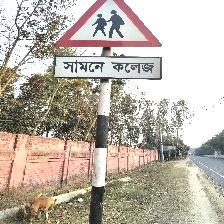College-in-front: (37, 0, 181, 97)
